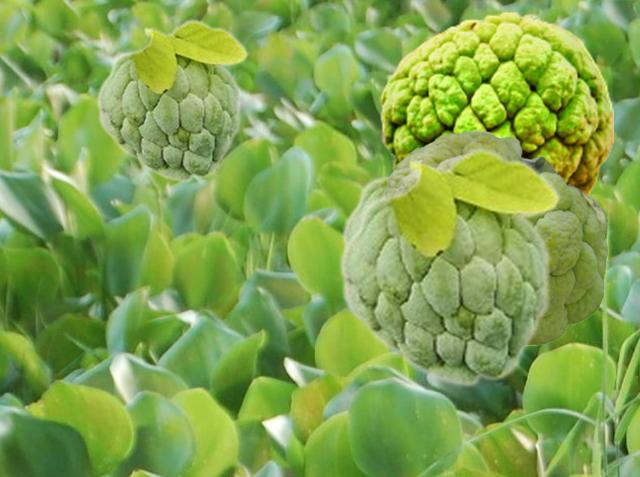atis: (337, 146, 561, 387), (382, 130, 607, 348), (379, 10, 612, 196), (95, 18, 248, 182), (340, 171, 391, 245)
